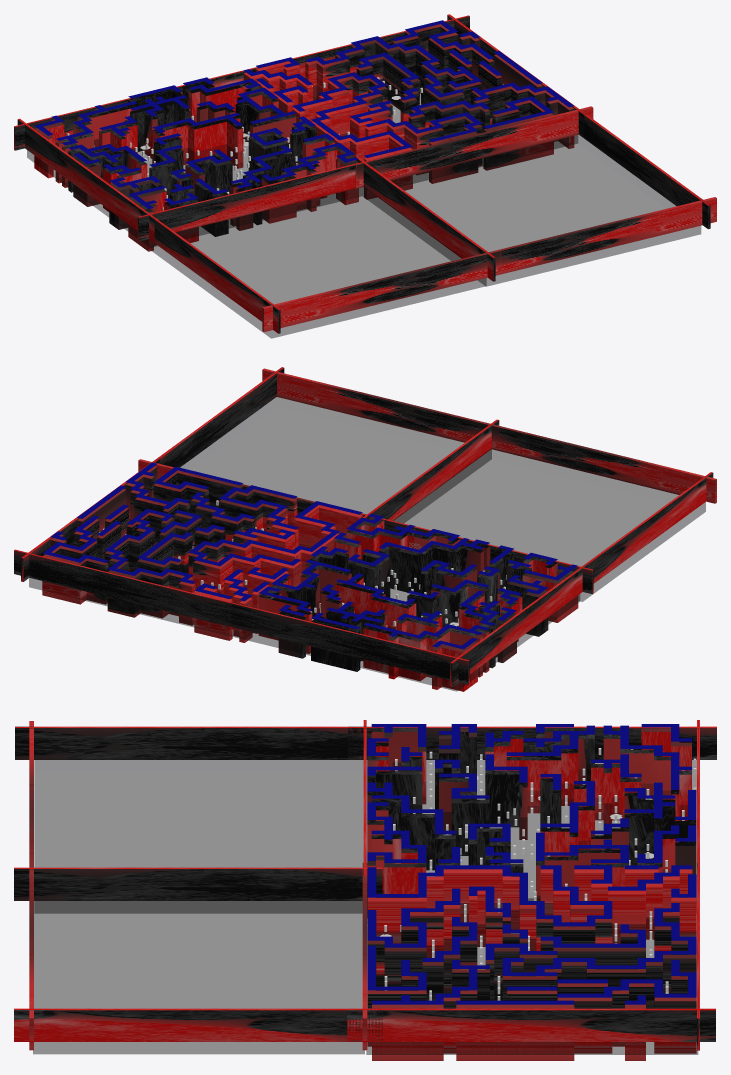
File: maze.glb
3 views of the same model, one above another, from view 1: azimuth 30°, elevation 25°; view 2: azimuth 150°, elevation 25°; view 3: azimuth 270°, elevation 25° (orthographic). The views are drawn at different scales.
Parts seen in each view (by area): view 1: Cube.002, Cube, wall.028, wall.029, maze_top, ground, wall.border.011, wall.border.005, wall.border.008, wall.border.012, wall.border, wall.border.010 (+22 smaller); view 2: wall.028, Cube.002, Cube, wall.029, maze_top, ground, wall.border.001, wall.border.006, wall.border.008, wall.border.011, wall.border, wall.border.013 (+21 smaller); view 3: Cube.002, Cube, wall.028, wall.029, maze_top, ground, wall.border.004, wall.border.010, wall.border.009, wall.border.013, wall.border, wall.002 (+23 smaller).
Boxes of the visible parts, x1=… form: Cube.002: x1=148, y1=186, x2=486, y2=338; Cube: x1=363, y1=134, x2=700, y2=286; wall.028: x1=243, y1=24, x2=574, y2=199; wall.029: x1=244, y1=20, x2=573, y2=157; maze_top: x1=34, y1=77, x2=358, y2=209; ground: x1=27, y1=73, x2=577, y2=247; wall.border.011: x1=262, y1=249, x2=501, y2=332; wall.border.005: x1=355, y1=106, x2=593, y2=188; wall.border.008: x1=478, y1=197, x2=716, y2=274; wall.border.012: x1=137, y1=159, x2=375, y2=241; wall.border: x1=17, y1=118, x2=155, y2=242; wall.border.010: x1=356, y1=157, x2=495, y2=281; wall.028: x1=42, y1=466, x2=362, y2=642; Cube.002: x1=393, y1=448, x2=705, y2=601; Cube: x1=179, y1=396, x2=491, y2=522; wall.029: x1=42, y1=462, x2=362, y2=601; maze_top: x1=259, y1=513, x2=577, y2=649; ground: x1=29, y1=504, x2=579, y2=691; wall.border.001: x1=231, y1=603, x2=469, y2=684; wall.border.006: x1=14, y1=549, x2=251, y2=631; wall.border.008: x1=262, y1=368, x2=499, y2=450; wall.border.011: x1=478, y1=421, x2=716, y2=503; wall.border: x1=450, y1=562, x2=589, y2=687; wall.border.013: x1=575, y1=472, x2=713, y2=583; Cube.002: x1=34, y1=758, x2=363, y2=913; Cube: x1=33, y1=899, x2=364, y2=1053; wall.028: x1=367, y1=869, x2=696, y2=1060; wall.029: x1=367, y1=865, x2=696, y2=1004; maze_top: x1=367, y1=724, x2=696, y2=862; ground: x1=366, y1=759, x2=697, y2=1054; wall.border.004: x1=347, y1=1008, x2=715, y2=1041; wall.border.010: x1=14, y1=867, x2=382, y2=900; wall.border.009: x1=14, y1=1008, x2=382, y2=1041; wall.border.013: x1=15, y1=726, x2=371, y2=759; wall.border: x1=348, y1=726, x2=716, y2=759; wall.002: x1=506, y1=734, x2=594, y2=813.
Size of what is drawn, in the model's own units: 83.82 by 7.5 by 83.37.
39 materials, 6 textured.
